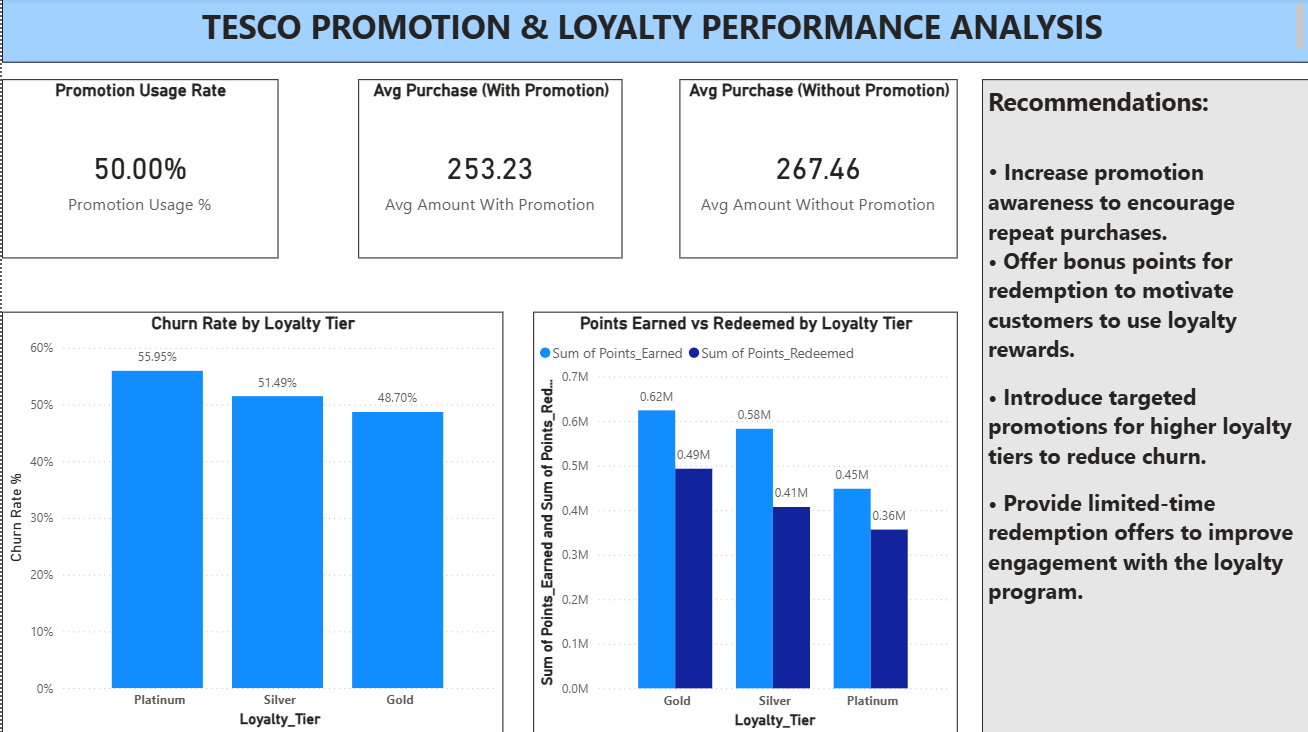

Layout of this report page (visuals, bound fields, positions):
{"tool":"powerbi","page":{"name":"PROMOTION & LOYALTY IMPACT ANALYSIS (Task 4)","canvas":[1280,720],"ordinal":2},"visuals":[{"type":"textbox","box":[0,0,1280,63.3],"z":0},{"type":"card","title":"Promotion Usage Rate","fields":{"Values":["Customer_Transactions.Promotion Usage %"]},"box":[0,80,270,175],"z":1000},{"type":"card","title":"Avg Purchase (With Promotion)","fields":{"Values":["Customer_Transactions.Avg Amount With Promotion"]},"box":[348.3,80,258.3,175],"z":2000},{"type":"card","title":"Avg Purchase (Without Promotion)","fields":{"Values":["Customer_Transactions.Avg Amount Without Promotion"]},"box":[663.3,80,271.7,175],"z":3000},{"type":"clusteredColumnChart","title":"Churn Rate by Loyalty Tier","fields":{"Category":["Loyalty_Program.Loyalty_Tier"],"Y":["Churn_Labelled_Customers.Churn Rate %"]},"box":[0,306.7,490,413.3],"z":4000},{"type":"clusteredColumnChart","title":"Points Earned vs Redeemed by Loyalty Tier","fields":{"Category":["Loyalty_Program.Loyalty_Tier"],"Y":["Sum(Loyalty_Program.Points_Earned)","Sum(Loyalty_Program.Points_Redeemed)"]},"box":[520,306.7,415,413.3],"z":5000},{"type":"textbox","box":[958.3,80,321.7,640],"z":6000}]}

Visuals, with their boxes in screenshot pixels (x1, y1, x2, y2), scaled from the page's 1280x720 canvas onto the 1308x732 screenshot:
textbox: [x1=0, y1=0, x2=1307, y2=64]
"Promotion Usage Rate" card: [x1=0, y1=81, x2=276, y2=259]
"Avg Purchase (With Promotion)" card: [x1=356, y1=81, x2=620, y2=259]
"Avg Purchase (Without Promotion)" card: [x1=678, y1=81, x2=955, y2=259]
"Churn Rate by Loyalty Tier" clusteredColumnChart: [x1=0, y1=312, x2=501, y2=731]
"Points Earned vs Redeemed by Loyalty Tier" clusteredColumnChart: [x1=531, y1=312, x2=955, y2=731]
textbox: [x1=979, y1=81, x2=1307, y2=731]
